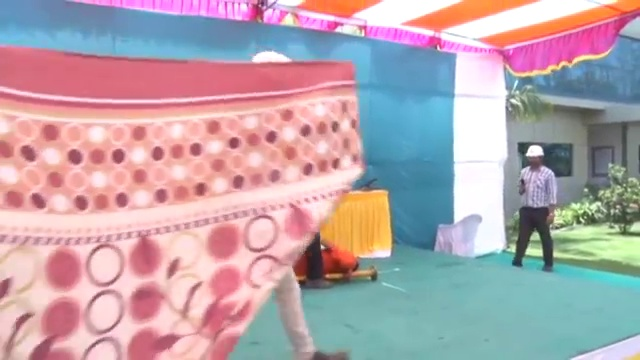helmet: (523, 143, 545, 160)
helmet_on: (522, 143, 545, 173)
person: (512, 143, 560, 272)
